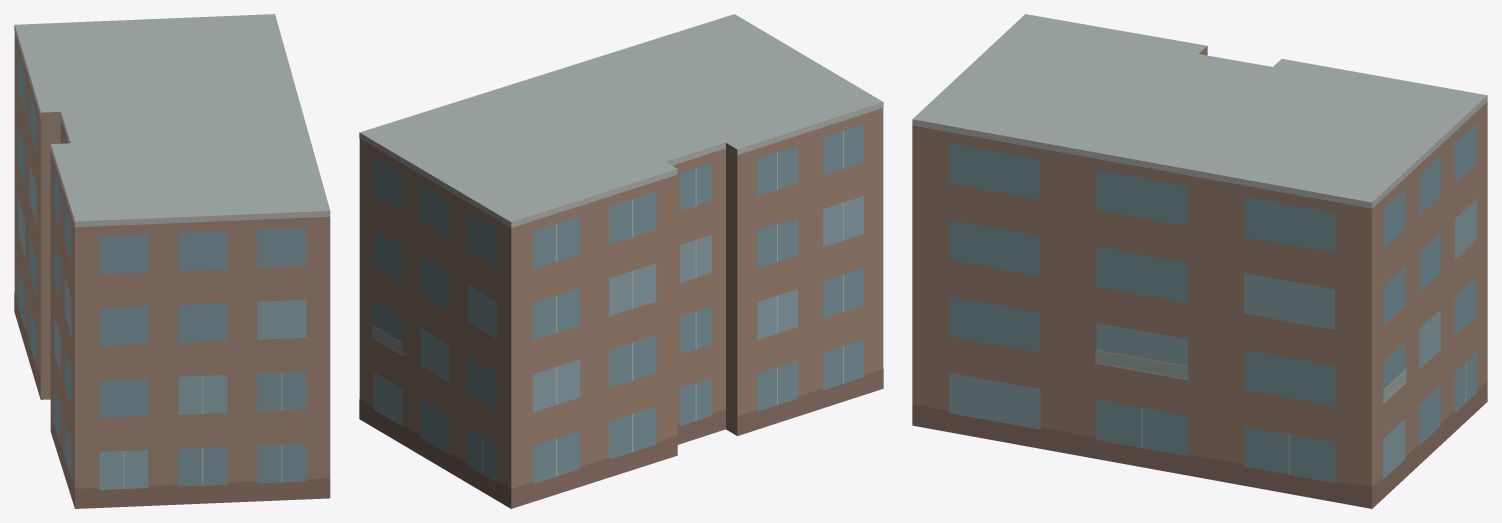
Rendered from survey-upis-32803153.glb.
The picture shows the model from 3 angles, left to right: view 1: azimuth 30°, elevation 25°; view 2: azimuth 150°, elevation 25°; view 3: azimuth 270°, elevation 25°; orthographic projection. The views are drawn at different scales.
Visible parts, largest first — view 1: survey-upis-32803153.tmp; view 2: survey-upis-32803153.tmp; view 3: survey-upis-32803153.tmp.
Part boxes in pixels (x1,y1,x2,y2): survey-upis-32803153.tmp: (14, 14, 330, 508); survey-upis-32803153.tmp: (359, 14, 883, 508); survey-upis-32803153.tmp: (912, 14, 1487, 508).
Size of the model in its own units: 16.12 by 12.2 by 20.78.
